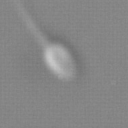normal: (9, 1, 49, 47)
